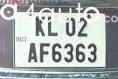0: (64, 16, 75, 36)
2: (76, 16, 88, 36)
3: (85, 43, 97, 62), (63, 42, 73, 62)
6: (49, 42, 62, 62), (74, 42, 86, 62)
A: (26, 42, 37, 62)
F: (37, 42, 49, 62)
K: (33, 15, 46, 36)
L: (45, 16, 57, 36)
